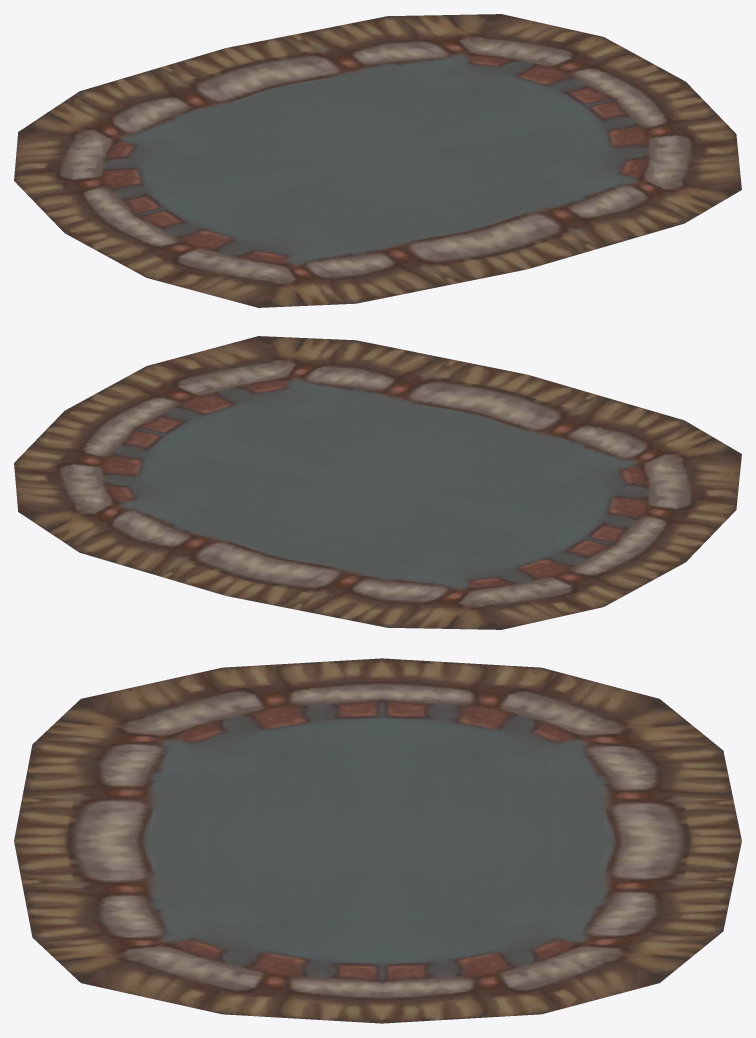
File: Map_11_carpet01.FBX
The picture shows the model from 3 angles, top to bottom: view 1: azimuth 30°, elevation 25°; view 2: azimuth 150°, elevation 25°; view 3: azimuth 270°, elevation 25°; orthographic projection. The views are drawn at different scales.
Visible parts, largest first — view 1: Map_11_carpet01; view 2: Map_11_carpet01; view 3: Map_11_carpet01.
Part boxes in pixels (box(x1,y1,x2,y2)): Map_11_carpet01: box(14, 14, 741, 307); Map_11_carpet01: box(14, 336, 741, 629); Map_11_carpet01: box(14, 658, 741, 1023).
Bounding box in the file's own units: 500 × 421 × 3.66e-05.
